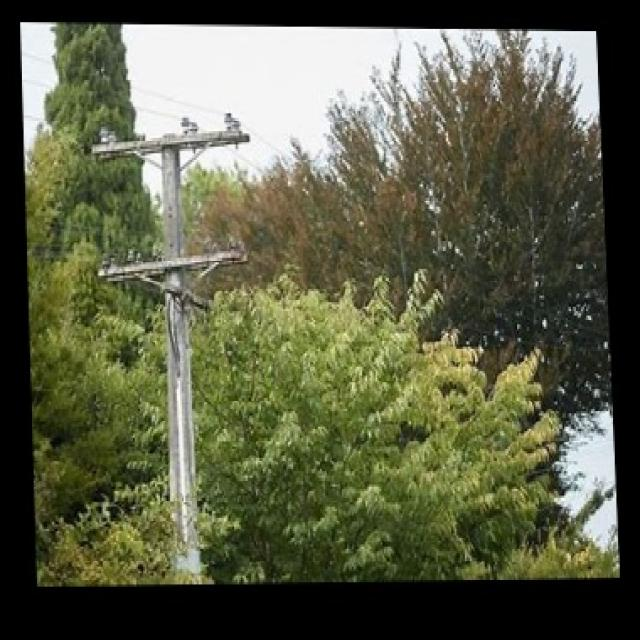utility poles: (78, 96, 271, 568)
